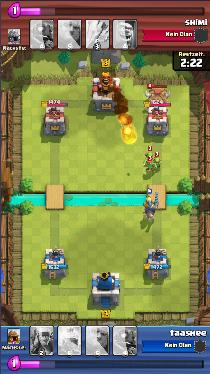ally_prince: (142, 190, 159, 219)
enemy_fireball: (120, 123, 137, 146)
enemy_goblin_hut: (145, 88, 171, 106)
enemy_spear_goblin: (153, 157, 163, 170), (145, 160, 156, 171), (145, 150, 154, 162)
